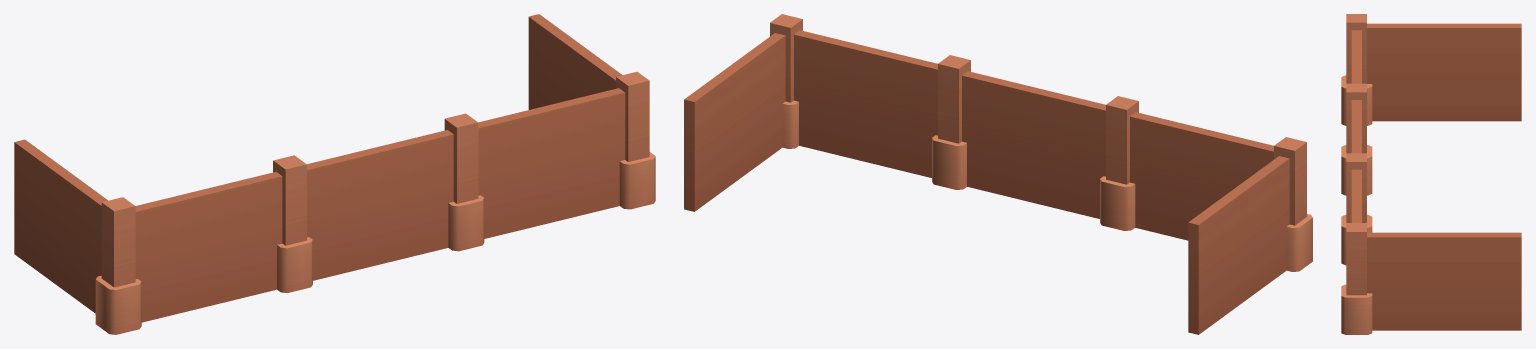
Rendered from fence_yard_1x3.glb.
3 renders of one model, left to right at view 1: azimuth 30°, elevation 25°; view 2: azimuth 150°, elevation 25°; view 3: azimuth 270°, elevation 25°, orthographic. The views are drawn at different scales.
Parts seen in each view (by area): view 1: fence-1x3; view 2: fence-1x3; view 3: fence-1x3.
Boxes of the visible parts, left/top/right/bottom form: fence-1x3: left=14, top=14, right=655, bottom=334; fence-1x3: left=684, top=14, right=1312, bottom=334; fence-1x3: left=1341, top=14, right=1521, bottom=334.
Bounding box in the file's own units: 10.2 × 2.16 × 3.5.
1 material, 1 textured.
